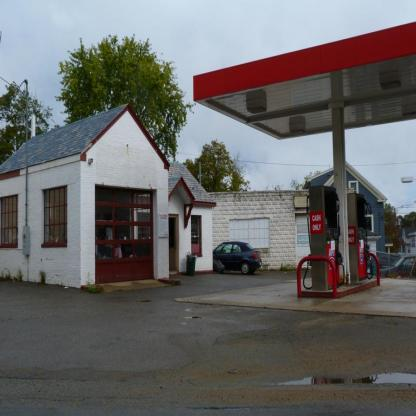Car: (214, 242, 265, 276), (380, 254, 416, 280)
